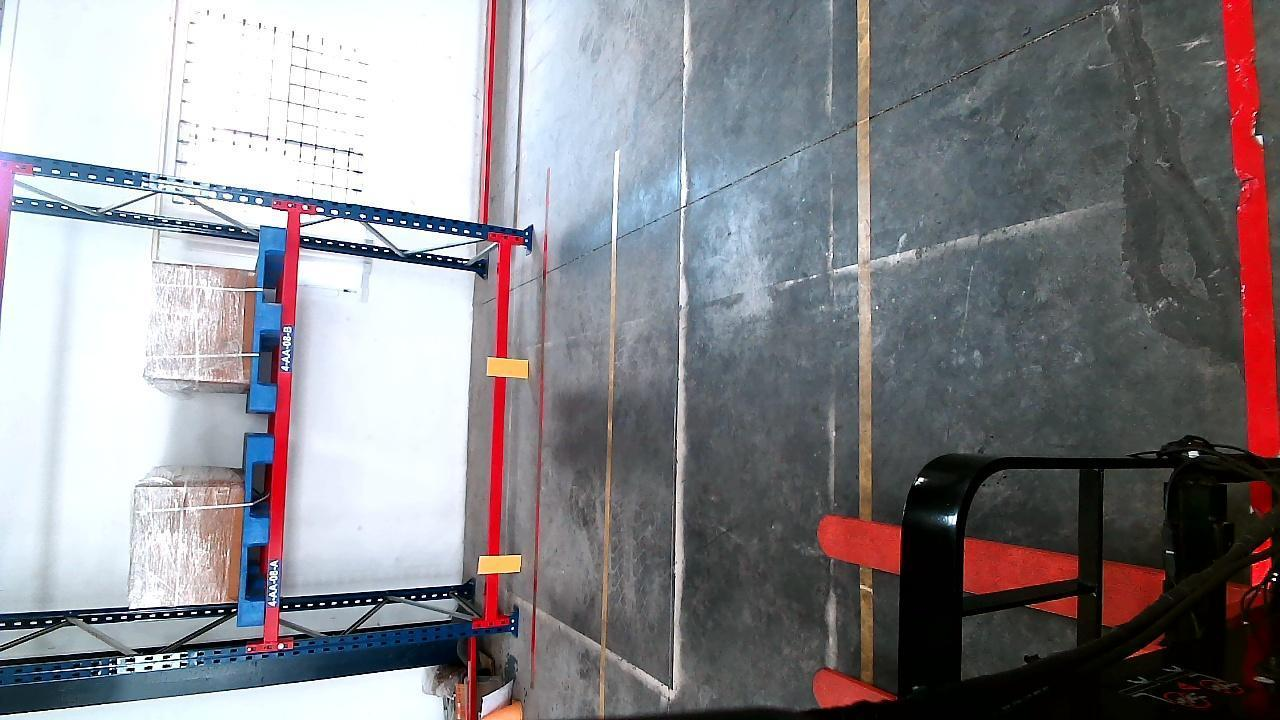h_rack: (268, 200, 303, 620), (488, 250, 509, 611)
orange_strip: (491, 355, 531, 379), (482, 553, 523, 575)
red_line: (1225, 0, 1280, 463), (528, 163, 560, 685)
small_pallet: (253, 229, 286, 418), (239, 449, 275, 617)
yellow_line: (596, 146, 625, 720), (854, 0, 877, 507)
